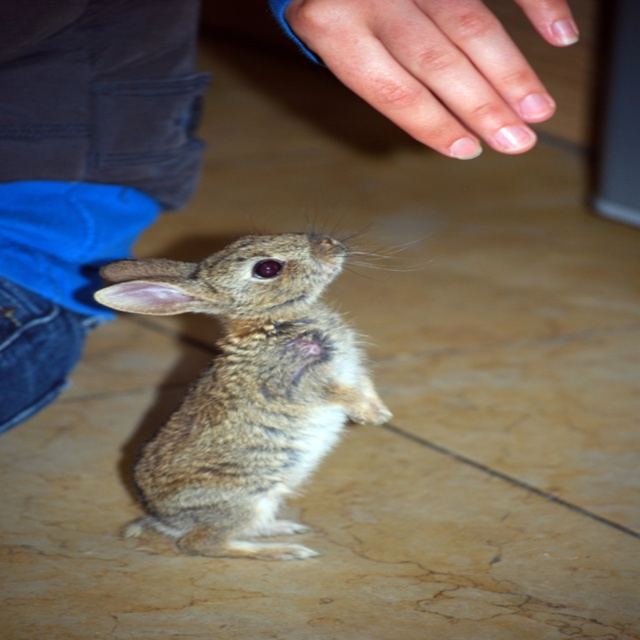Rabbit: (92, 202, 441, 562)
